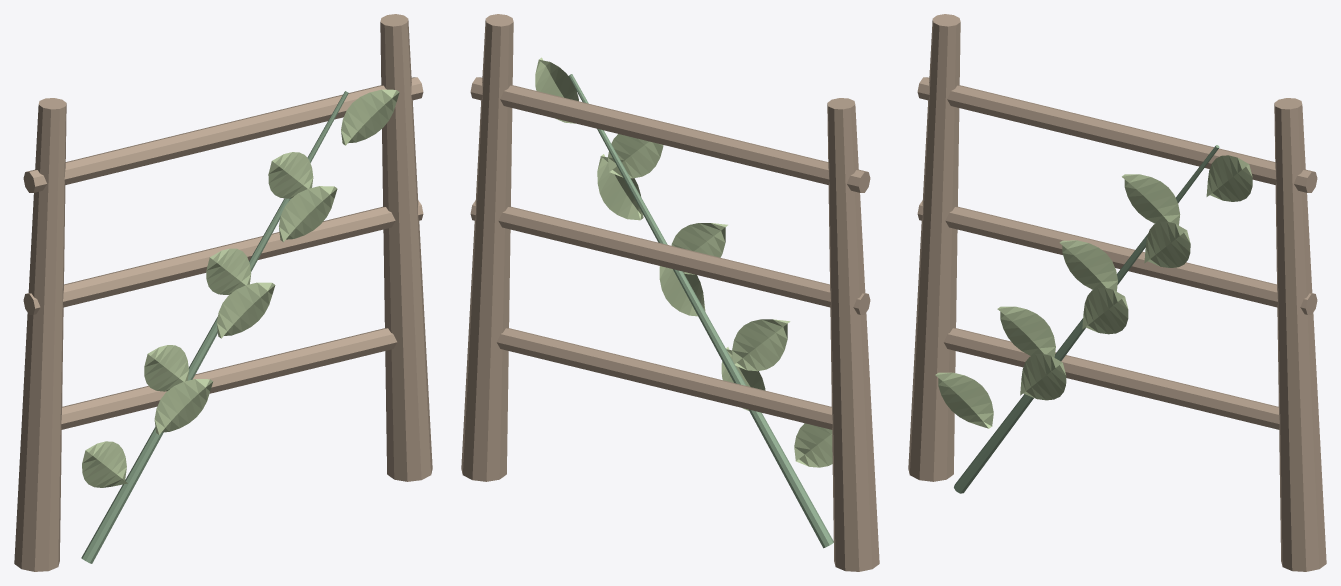
Rendered from prop_trellis.glb.
The picture shows the model from 3 angles, left to right: view 1: azimuth 30°, elevation 25°; view 2: azimuth 150°, elevation 25°; view 3: azimuth 330°, elevation 25°; orthographic projection.
Parts seen in each view (by area): view 1: post_L, post_R, bar_2, bar_1, bar_0, vine, leaf_3, leaf_7, leaf_5, leaf_1, leaf_0, leaf_6 (+2 smaller); view 2: post_L, post_R, bar_2, bar_1, bar_0, vine, leaf_2, leaf_6, leaf_5, leaf_0, leaf_4, leaf_3 (+2 smaller); view 3: post_R, post_L, bar_2, bar_0, bar_1, vine, leaf_0, leaf_2, leaf_6, leaf_4, leaf_5, leaf_7 (+2 smaller).
Boxes of the visible parts, x1=… form: post_L: x1=14, y1=98, x2=66, y2=571; post_R: x1=380, y1=14, x2=432, y2=481; bar_2: x1=23, y1=77, x2=423, y2=192; bar_1: x1=23, y1=200, x2=423, y2=314; bar_0: x1=61, y1=328, x2=397, y2=429; vine: x1=81, y1=91, x2=348, y2=563; leaf_3: x1=216, y1=282, x2=275, y2=338; leaf_7: x1=341, y1=89, x2=399, y2=145; leaf_5: x1=279, y1=186, x2=337, y2=241; leaf_1: x1=154, y1=379, x2=213, y2=434; leaf_0: x1=82, y1=441, x2=127, y2=487; leaf_6: x1=268, y1=152, x2=313, y2=198; post_L: x1=827, y1=98, x2=879, y2=571; post_R: x1=461, y1=14, x2=513, y2=481; bar_2: x1=470, y1=77, x2=870, y2=192; bar_1: x1=470, y1=200, x2=870, y2=314; bar_0: x1=496, y1=328, x2=832, y2=429; vine: x1=568, y1=74, x2=833, y2=548; leaf_2: x1=732, y1=319, x2=790, y2=371; leaf_6: x1=607, y1=134, x2=663, y2=178; leaf_5: x1=597, y1=154, x2=643, y2=220; leaf_0: x1=794, y1=423, x2=832, y2=467; leaf_4: x1=671, y1=223, x2=727, y2=274; leaf_3: x1=659, y1=266, x2=705, y2=316; post_R: x1=1274, y1=98, x2=1326, y2=571; post_L: x1=908, y1=14, x2=960, y2=481; bar_2: x1=917, y1=77, x2=1317, y2=192; bar_0: x1=943, y1=328, x2=1279, y2=429; bar_1: x1=917, y1=200, x2=1317, y2=314; vine: x1=954, y1=145, x2=1219, y2=493; leaf_0: x1=935, y1=372, x2=993, y2=428; leaf_2: x1=997, y1=306, x2=1055, y2=357; leaf_6: x1=1122, y1=174, x2=1180, y2=225; leaf_4: x1=1059, y1=240, x2=1117, y2=291; leaf_5: x1=1144, y1=221, x2=1190, y2=267; leaf_7: x1=1206, y1=155, x2=1252, y2=201.
Bounding box in the file's own units: 2.65 × 2.82 × 0.395.
